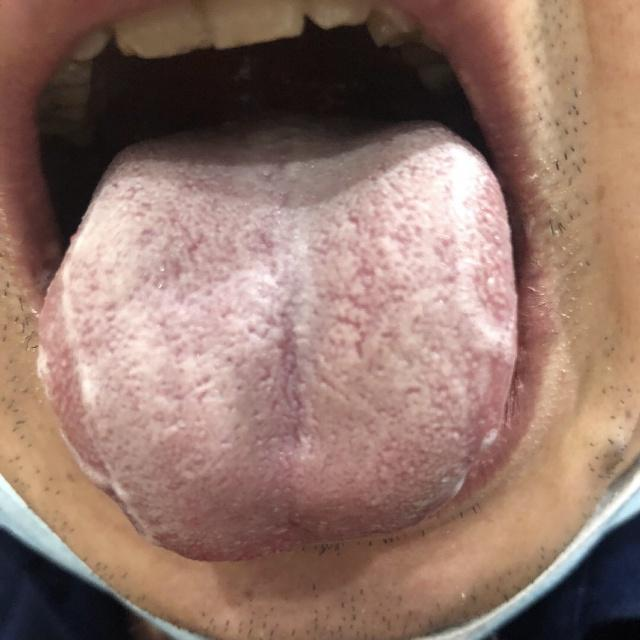baitaishe: (37, 116, 521, 561)
gandanao: (39, 271, 153, 538)
liewenshe: (271, 323, 309, 449)
